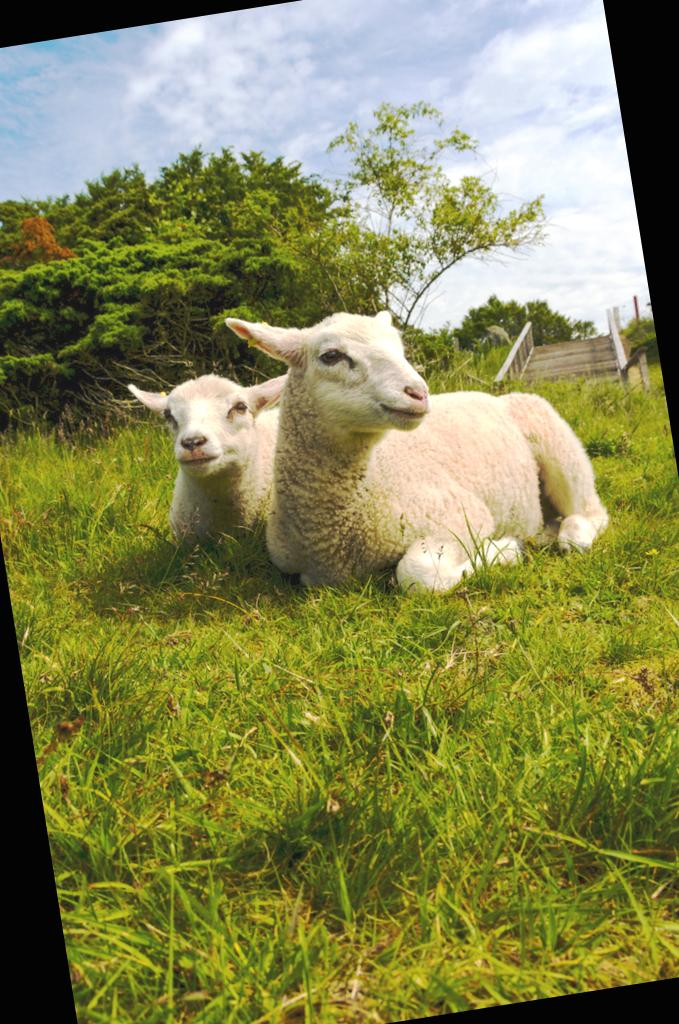Sheep: (203, 274, 620, 638), (124, 358, 313, 576)
